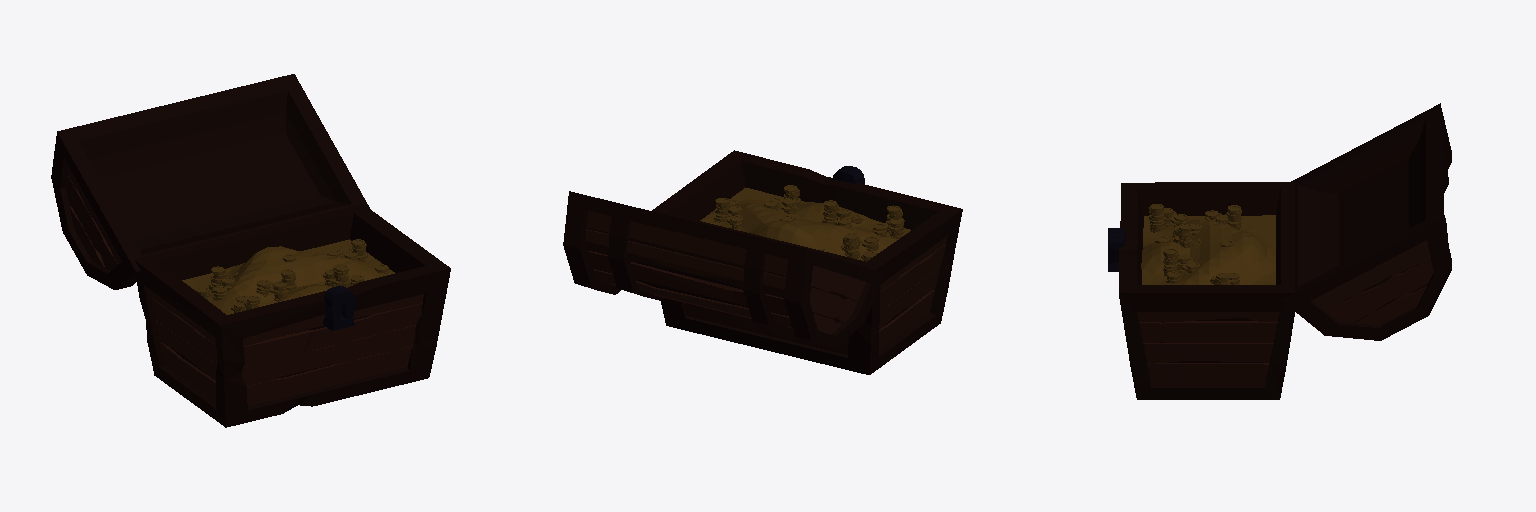
The model's file is Chest_Gold.obj.
3 renders of one model, left to right at view 1: azimuth 30°, elevation 25°; view 2: azimuth 150°, elevation 25°; view 3: azimuth 270°, elevation 25°, orthographic.
Parts seen in each view (by area): view 1: Chest_Base_Cube, Chest_Top_Cylinder.007; view 2: Chest_Base_Cube, Chest_Top_Cylinder.007; view 3: Chest_Base_Cube, Chest_Top_Cylinder.007.
Part boxes in pixels (x1,y1,x2,y2): Chest_Base_Cube: (135, 204, 450, 427); Chest_Top_Cylinder.007: (51, 74, 369, 289); Chest_Base_Cube: (652, 150, 962, 374); Chest_Top_Cylinder.007: (563, 191, 884, 348); Chest_Base_Cube: (1108, 182, 1294, 399); Chest_Top_Cylinder.007: (1283, 103, 1451, 340).
Bounding box in the file's own units: 1.18 × 0.8994 × 1.48.